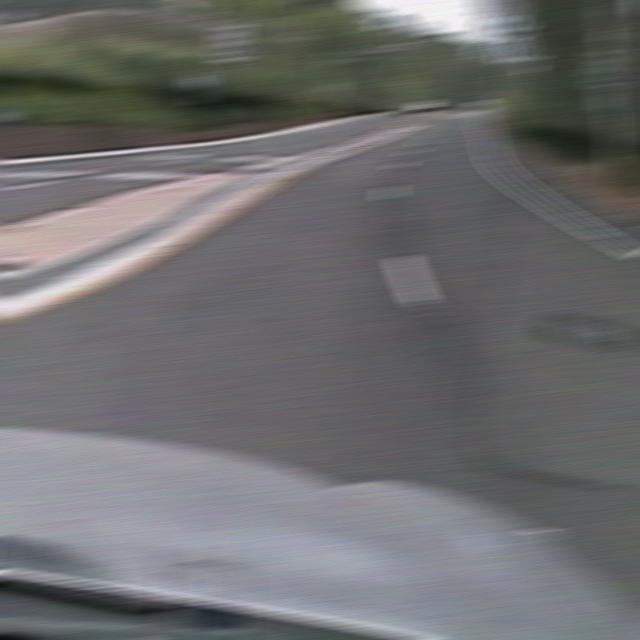speedLimit50: (211, 23, 247, 61), (587, 47, 621, 86)
